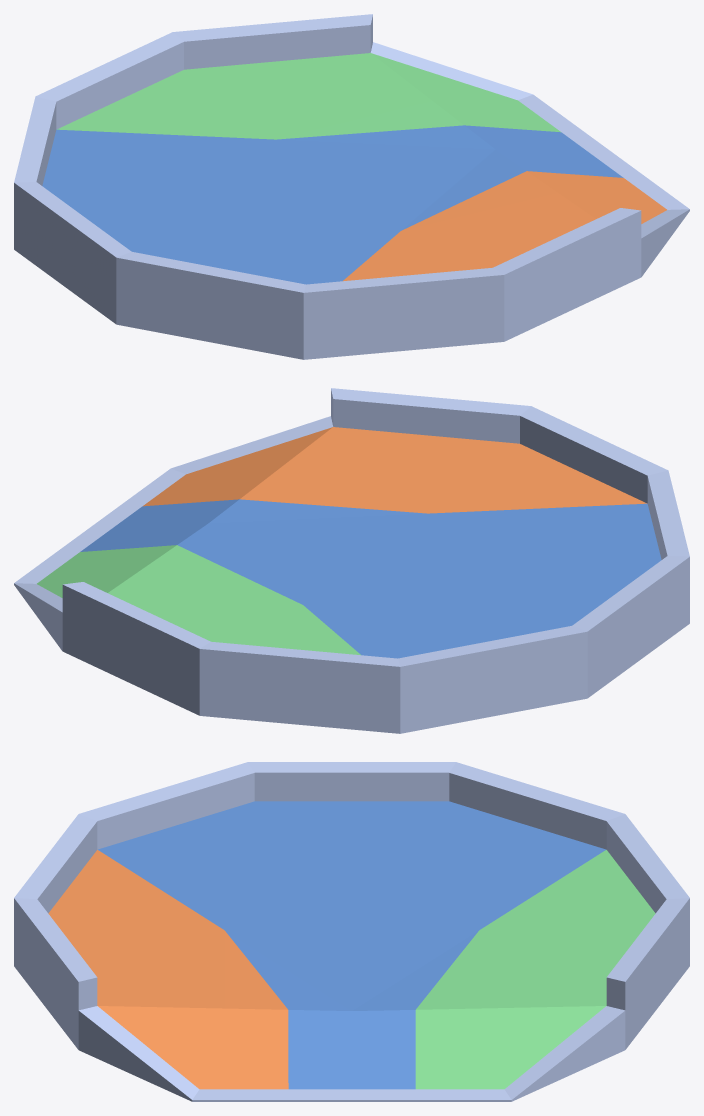
File: Finish Plane.fbx
3 views of the same model, one above another, from view 1: azimuth 30°, elevation 25°; view 2: azimuth 150°, elevation 25°; view 3: azimuth 270°, elevation 25° (orthographic).
Parts seen in each view (by area): view 1: Finish Plane; view 2: Finish Plane; view 3: Finish Plane.
Boxes of the visible parts, box(x1,y1,x2,y2) form: Finish Plane: box(14, 14, 689, 359); Finish Plane: box(14, 388, 689, 733); Finish Plane: box(14, 762, 689, 1101).
Bounding box in the file's own units: 1454 × 170 × 1529.
